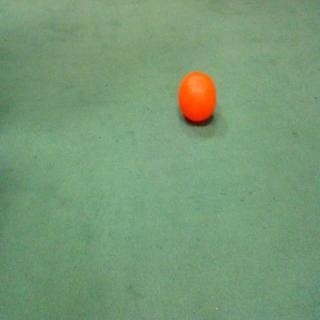orange: (174, 67, 220, 131)
